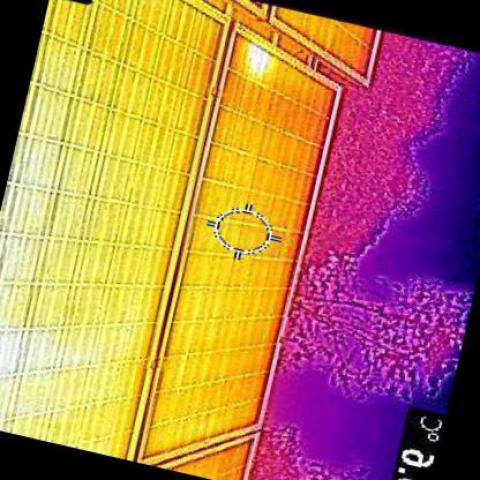fault: (250, 44, 267, 70)
